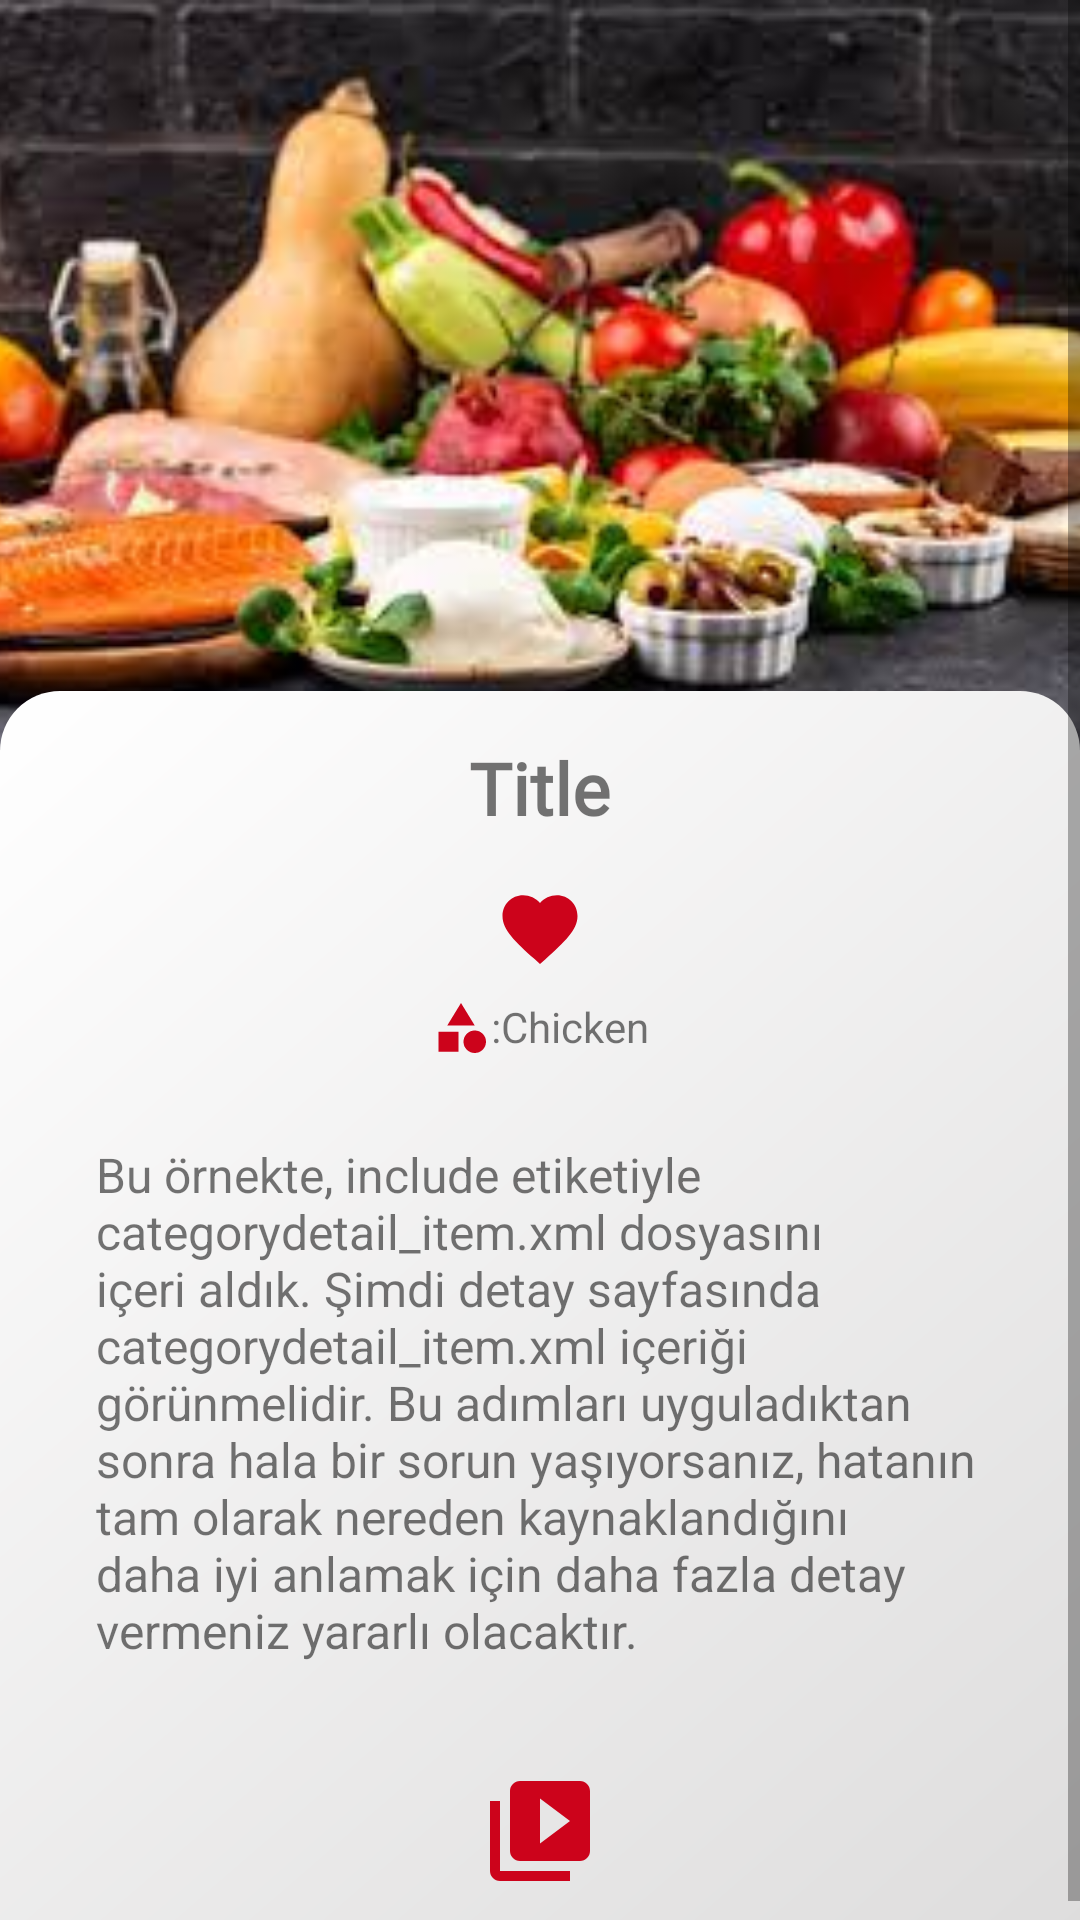

Locate icon controls on the screen. Image size 1080 × 1920, boxes as (x1, y1, x2, y2).
favorite: (502, 895, 578, 964)
video: (490, 1781, 590, 1881)
